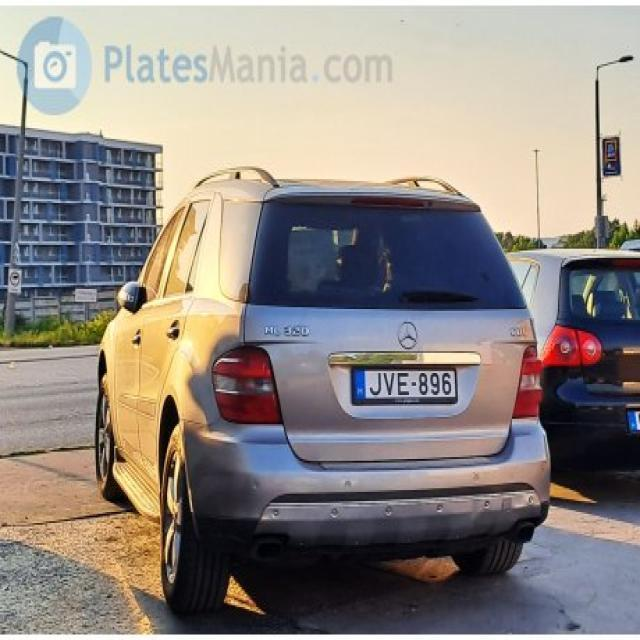licence: (345, 361, 460, 412)
